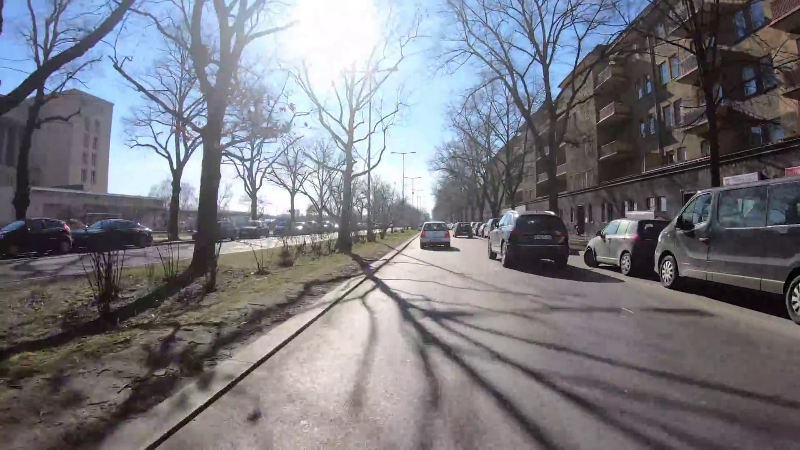Plate: (531, 234, 555, 240)
